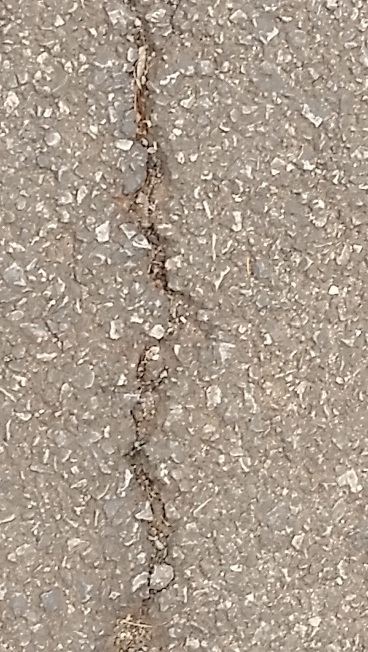A: (89, 15, 211, 636)
